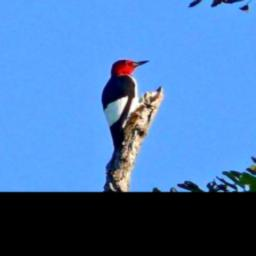Woodpecker: (89, 51, 157, 171)
